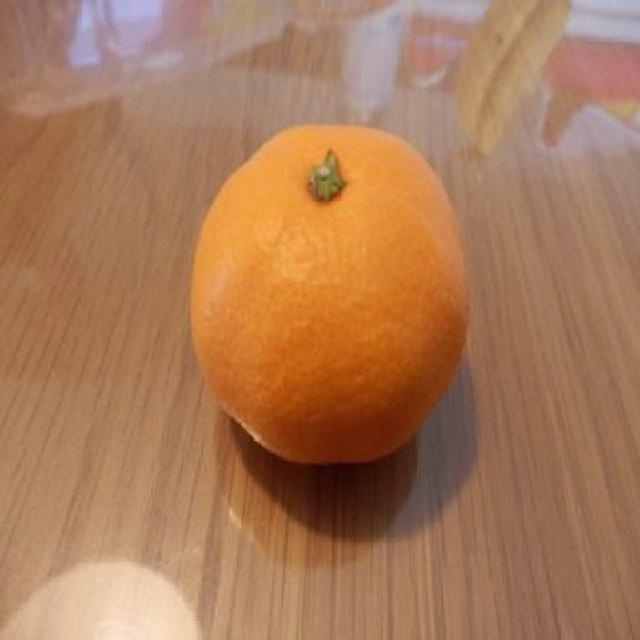Jeruk Sudah Matang: (189, 123, 469, 466)
